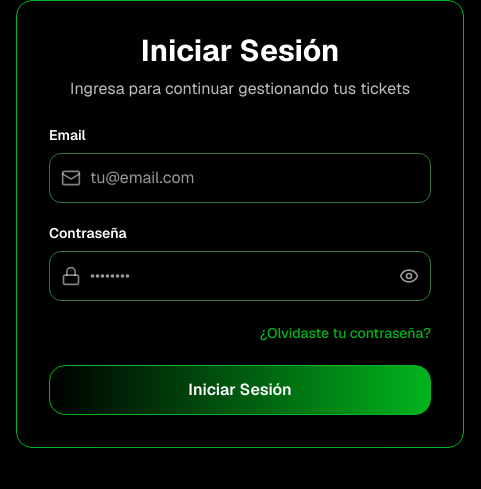
Test: LoginForm › debe mostrar error cuando la contraseña es muy corta
Type "test@example.com" into the field labelled "Email" at coordinates (240, 178), box 49,153 -> 431,203
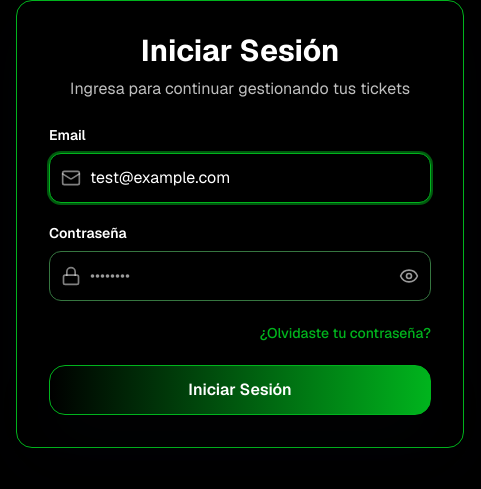
Type "123" into the password field labelled "Contraseña" at coordinates (240, 276), box 49,251 -> 431,301
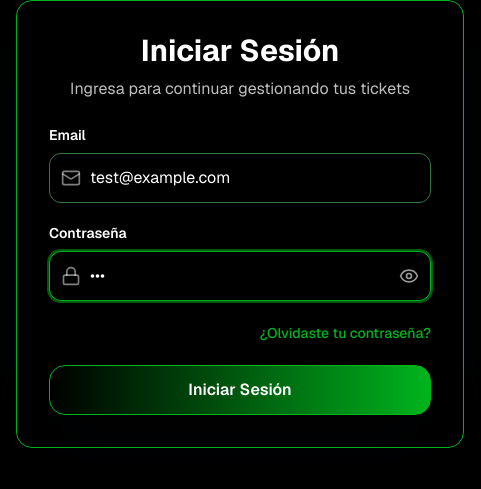
Click the button "Iniciar Sesión" at coordinates (240, 390), box 49,365 -> 431,415
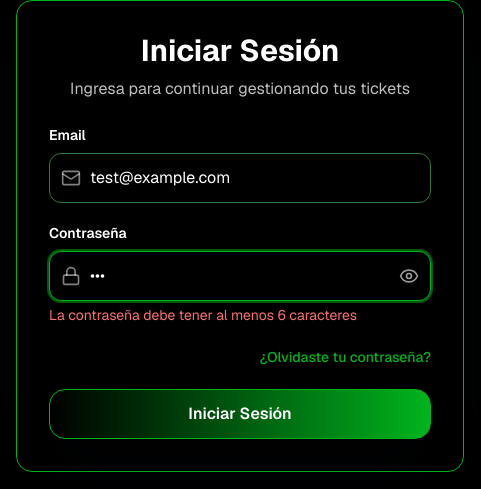
Result: the text "La contraseña debe tener al menos 6 caracteres" is shown at 49,306 -> 357,324
